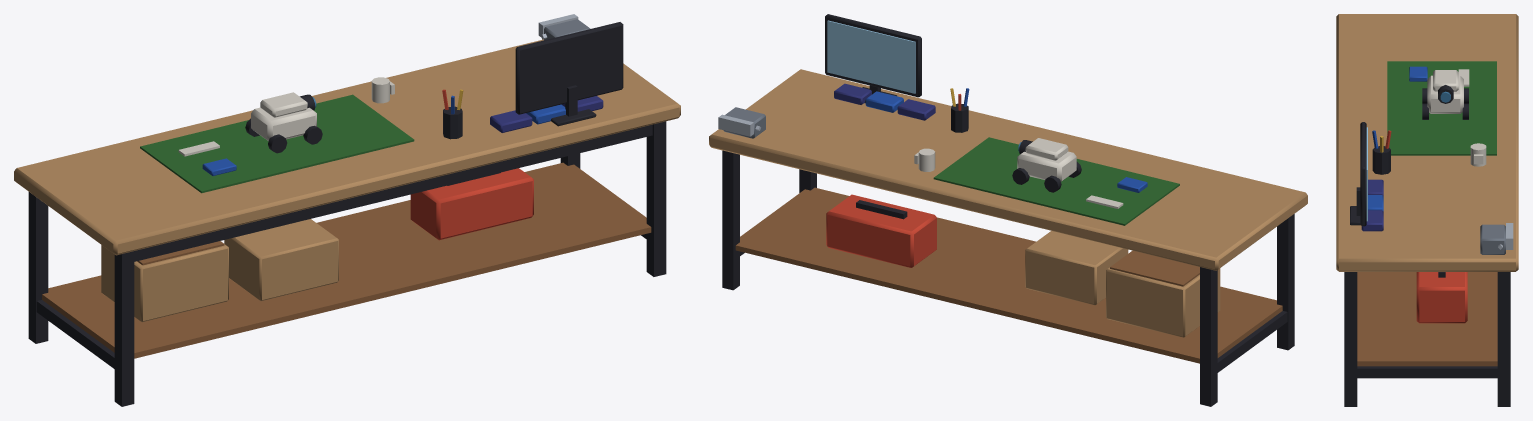
Rendered from workbench.glb.
3 renders of one model, left to right at view 1: azimuth 30°, elevation 25°; view 2: azimuth 150°, elevation 25°; view 3: azimuth 270°, elevation 25°, orthographic. The views are drawn at different scales.
Visible parts, largest first — view 1: body; view 2: body, screen; view 3: body, screen.
Part boxes in pixels (box(x1,y1,x2,y2)): body: box(14, 14, 680, 406); body: box(709, 14, 1307, 406); screen: box(827, 20, 915, 93); body: box(1336, 14, 1518, 406); screen: box(1366, 127, 1367, 221).
Size of the model in its own units: 3.2 by 1.36 by 1.
